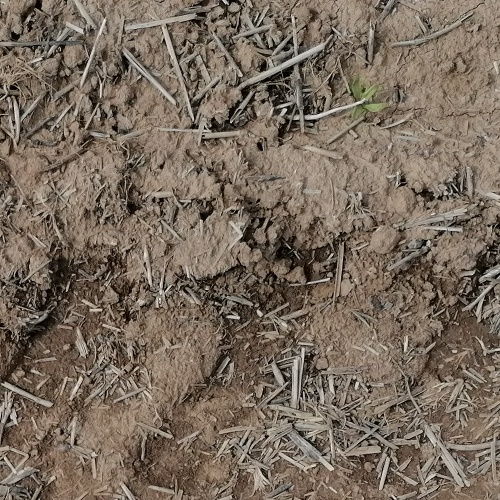beet: (348, 75, 390, 120)
